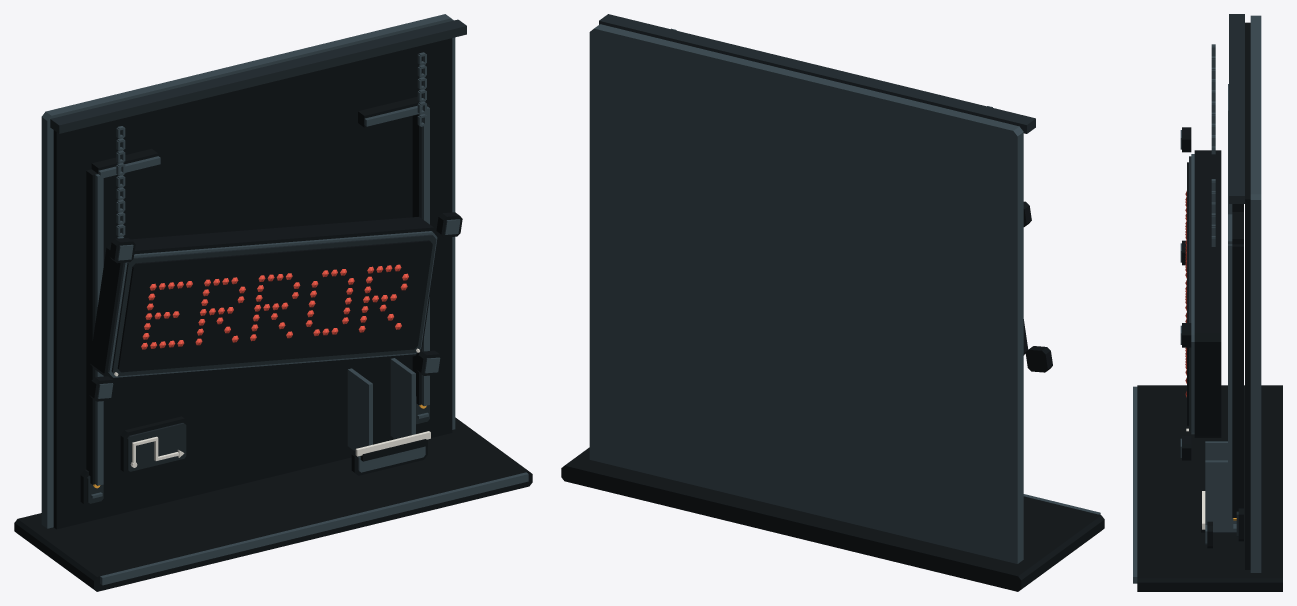
3 views of the same model, side by side, from view 1: azimuth 30°, elevation 25°; view 2: azimuth 150°, elevation 25°; view 3: azimuth 270°, elevation 25° (orthographic). The views are drawn at different scales.
Visible parts, largest first — view 1: Exit Liquidity sign; view 2: Exit Liquidity sign; view 3: Exit Liquidity sign.
Part boxes in pixels (bbox=[...]): Exit Liquidity sign: bbox=[14, 14, 532, 591]; Exit Liquidity sign: bbox=[561, 14, 1104, 591]; Exit Liquidity sign: bbox=[1133, 14, 1282, 591].
Size of the model in its own units: 1.08 by 1 by 0.3475.
